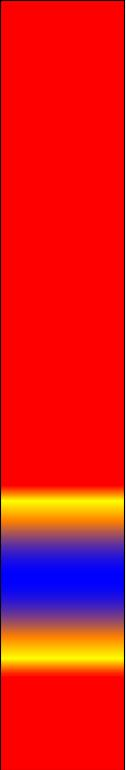Thermal Runaway: (4, 8, 121, 514), (8, 636, 119, 761)
critical: (4, 520, 116, 538), (6, 614, 115, 631)
safe: (10, 545, 118, 604)
